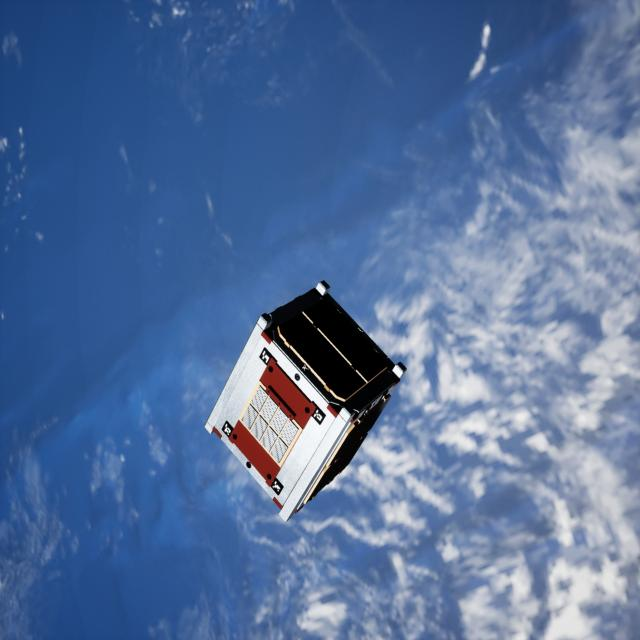medium_debris: (206, 286, 428, 508)
